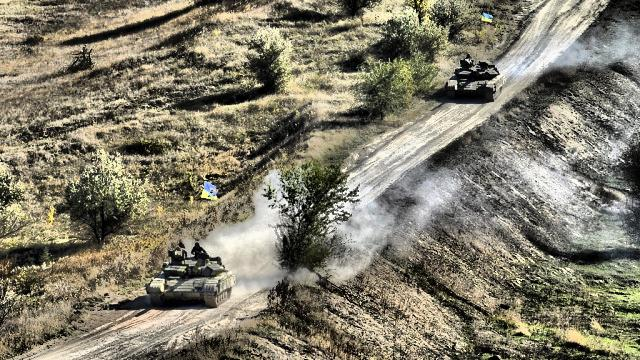military-vehicle: (146, 242, 232, 309), (446, 52, 502, 99)
